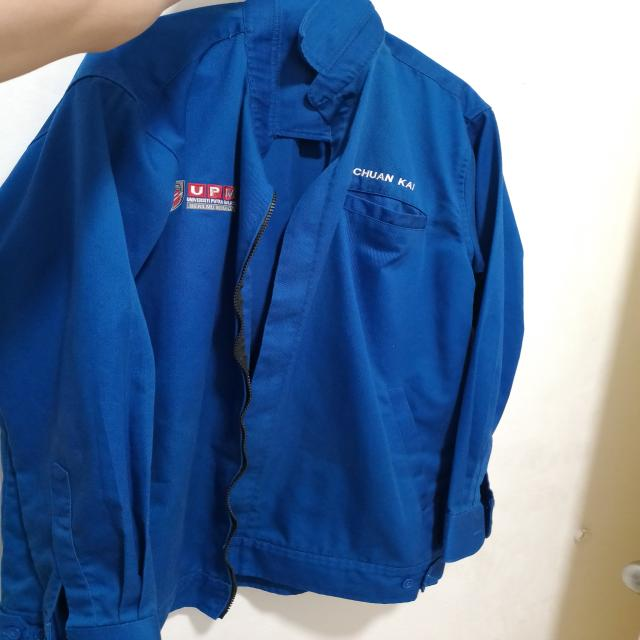person_without_labcoat: (0, 0, 524, 640)
